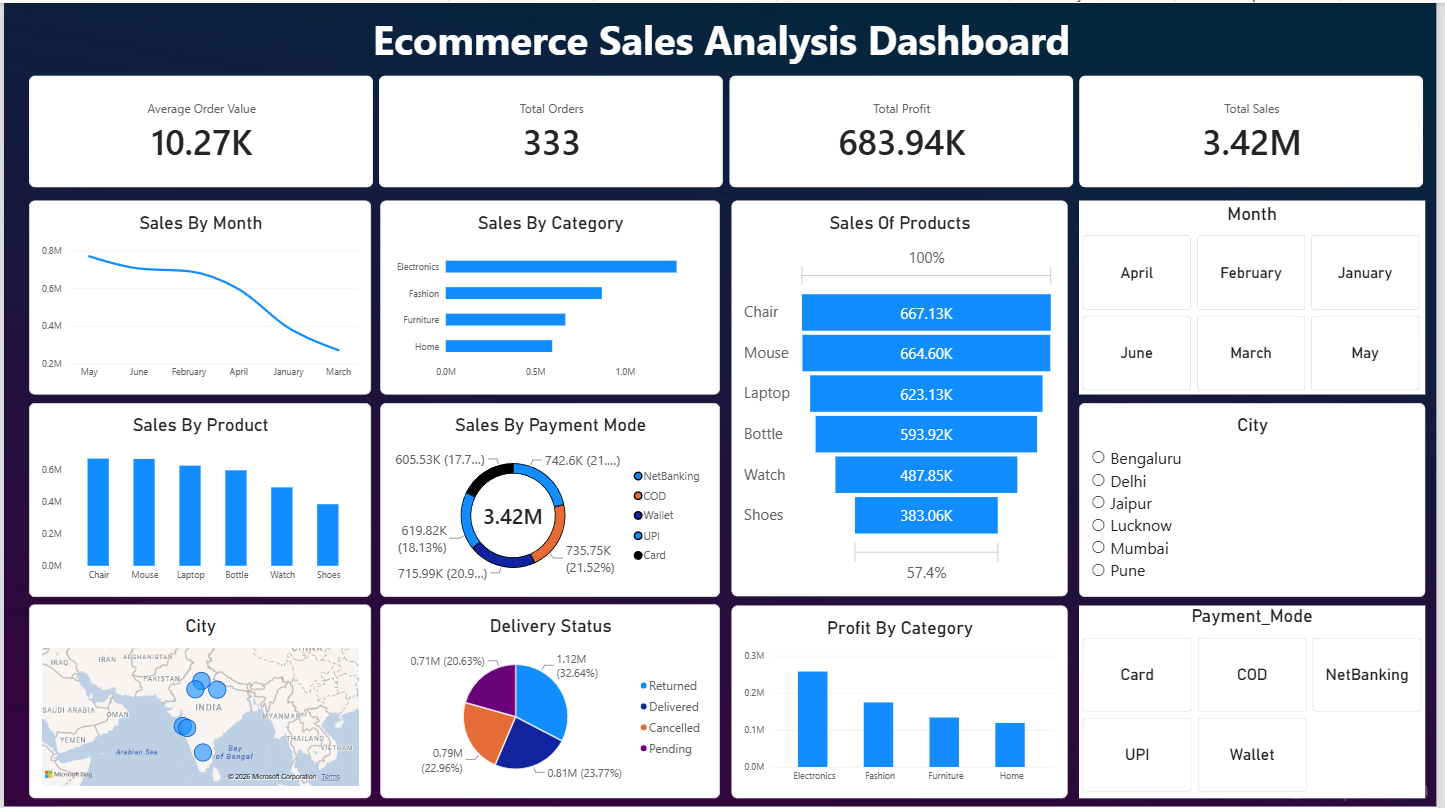

The page's visual inventory and layout, read from the dashboard file:
{"tool":"powerbi","page":{"name":"Page 1","canvas":[1920,1080],"ordinal":0},"visuals":[{"type":"textbox","box":[33.1,12.2,1855.8,71.5],"z":0},{"type":"cardVisual","fields":{"Data":["Dax Measures.Average Order Value","Dax Measures.Total Orders","Dax Measures.Total Profit","Dax Measures.Total Sales"]},"box":[33.5,97.1,1871.5,150],"z":1000},{"type":"lineChart","title":"Sales By Month","fields":{"Category":["ecommerce orders.Month"],"Y":["Sum(ecommerce orders.Sales)"]},"box":[33.1,265.1,458.7,259.9],"z":2000},{"type":"barChart","title":"Sales By Category","fields":{"Y":["Sum(ecommerce orders.Sales)"],"Category":["ecommerce orders.Category"]},"box":[504.1,265.1,455.2,259.9],"z":3000},{"type":"columnChart","title":"Sales By Product","fields":{"Category":["ecommerce orders.Product"],"Y":["Sum(ecommerce orders.Sales)"]},"box":[33.1,535.5,458.7,259.9],"z":4000},{"type":"map","fields":{"Category":["ecommerce orders.City"]},"box":[33.1,805.8,458.7,259.9],"z":5000},{"type":"donutChart","title":"Sales By Payment Mode","fields":{"Category":["ecommerce orders.Payment_Mode"],"Y":["Sum(ecommerce orders.Sales)"]},"box":[504.1,535.5,455.2,259.9],"z":6000},{"type":"pieChart","title":"Delivery Status","fields":{"Category":["ecommerce orders.Order_Status"],"Y":["Sum(ecommerce orders.Sales)"]},"box":[504.1,805.8,455.2,259.9],"z":7000},{"type":"funnel","title":"Sales Of Products","fields":{"Category":["ecommerce orders.Product"],"Y":["Sum(ecommerce orders.Sales)"]},"box":[975,265.1,450,530.2],"z":8000},{"type":"columnChart","title":"Profit By Category","fields":{"Y":["Sum(ecommerce orders.Profit)"],"Category":["ecommerce orders.Category"]},"box":[975,807.6,450,258.1],"z":9000},{"type":"advancedSlicerVisual","fields":{"Values":["ecommerce orders.Month"]},"box":[1440.7,265.1,464,259.9],"z":10000},{"type":"listSlicer","fields":{"Values":["ecommerce orders.City"]},"box":[1440.7,535.5,464,259.9],"z":11000},{"type":"advancedSlicerVisual","fields":{"Values":["ecommerce orders.Payment_Mode"]},"box":[1441,808,464,258],"z":12000}]}

Visuals, with their boxes in screenshot pixels (x1, y1, x2, y2), scaled from the page's 1920x1080 canvas onto the 1445x808 screenshot:
textbox: Rect(25, 9, 1422, 63)
cardVisual - Dax Measures.Average Order Value x Dax Measures.Total Orders: Rect(25, 73, 1434, 185)
"Sales By Month" lineChart: Rect(25, 198, 370, 393)
"Sales By Category" barChart: Rect(379, 198, 722, 393)
"Sales By Product" columnChart: Rect(25, 401, 370, 595)
map - ecommerce orders.City: Rect(25, 603, 370, 797)
"Sales By Payment Mode" donutChart: Rect(379, 401, 722, 595)
"Delivery Status" pieChart: Rect(379, 603, 722, 797)
"Sales Of Products" funnel: Rect(734, 198, 1072, 595)
"Profit By Category" columnChart: Rect(734, 604, 1072, 797)
advancedSlicerVisual - ecommerce orders.Month: Rect(1084, 198, 1433, 393)
listSlicer - ecommerce orders.City: Rect(1084, 401, 1433, 595)
advancedSlicerVisual - ecommerce orders.Payment_Mode: Rect(1085, 605, 1434, 798)
